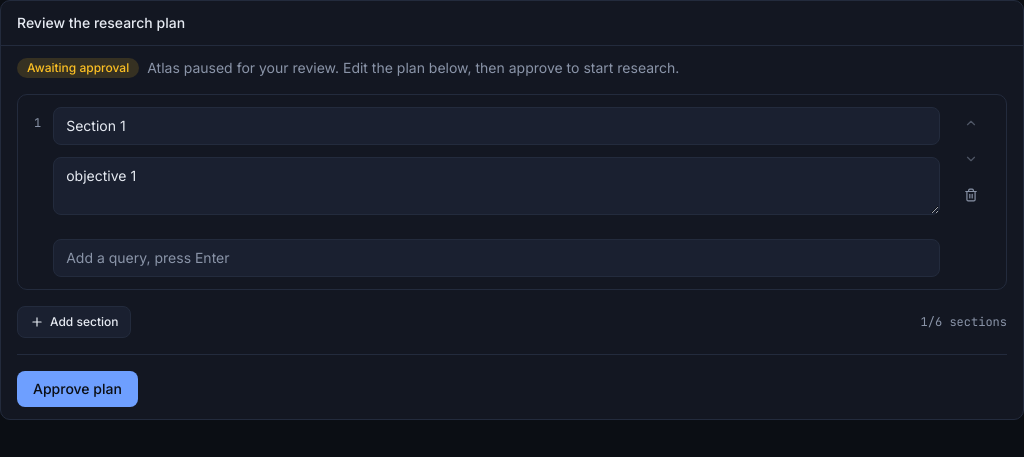
Scenario: PlanApprovalPanel › adds and removes suggested-query chips
Type "pricing tiers" into the field named "Add suggested query to section 1". click: point(497, 258)
box: left=53, top=239, right=940, bottom=277
Then press Enter
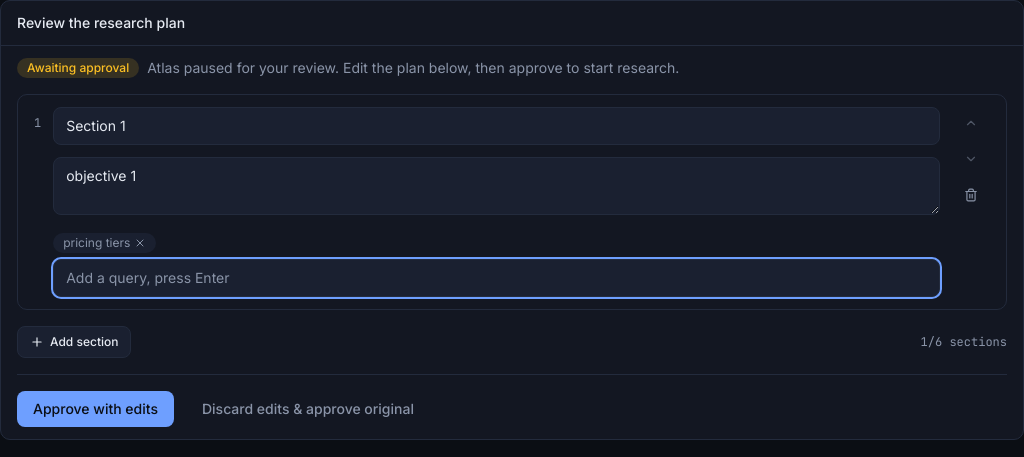
Now the text "pricing tiers" is shown, box left=53, top=233, right=156, bottom=253
Click the button named "Remove query pricing tiers". click: point(140, 243)
box: left=134, top=237, right=146, bottom=249
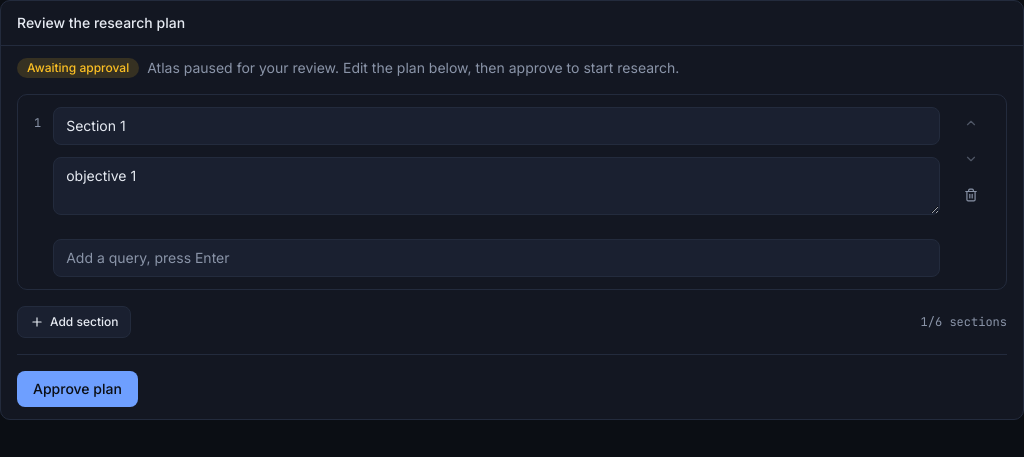
Now the text "pricing tiers" is gone
